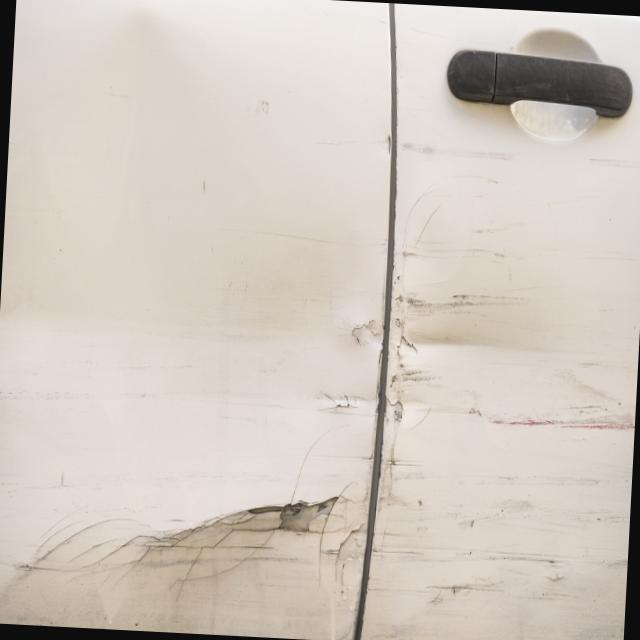Rayure: (0, 461, 368, 640), (387, 126, 568, 480), (368, 483, 631, 640), (301, 274, 385, 477), (453, 373, 637, 462)
